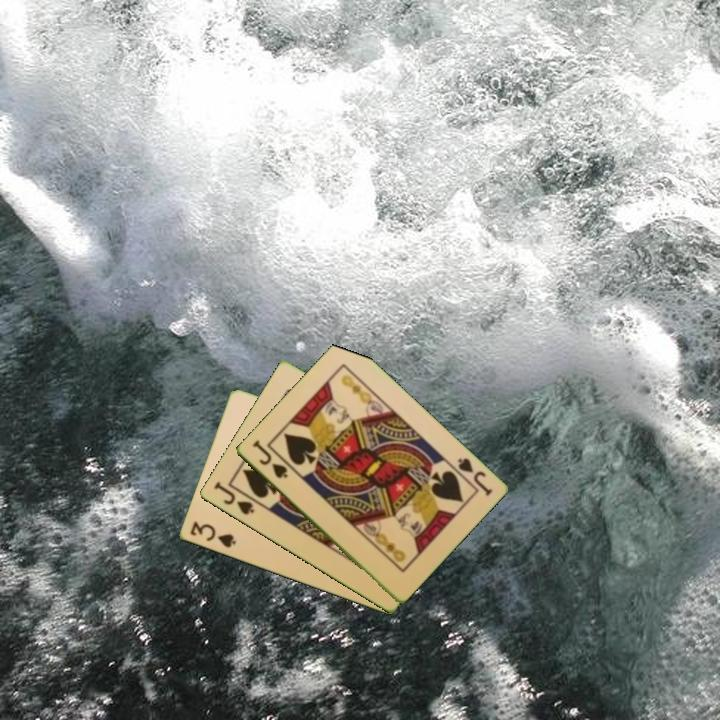3s: (186, 518, 238, 551)
Js: (210, 478, 257, 518), (248, 437, 290, 481), (454, 454, 495, 499)
